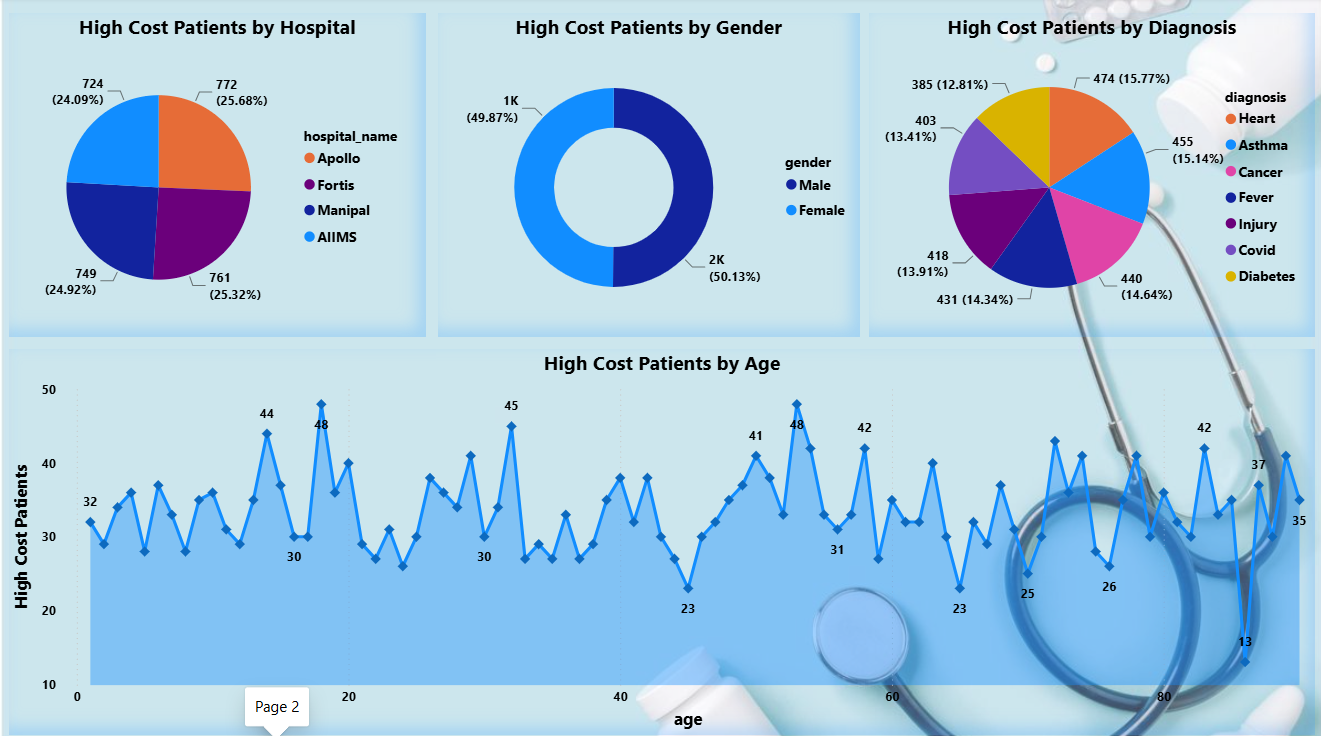

Layout of this report page (visuals, bound fields, positions):
{"tool":"powerbi","page":{"name":"Page 2","canvas":[1280,720],"ordinal":1},"visuals":[{"type":"areaChart","title":"High Cost Patients by Age","fields":{"Category":["healthcare healthcare.age"],"Y":["healthcare healthcare.High Cost Patients"]},"box":[9.8,339.9,1260.7,371.7],"z":0},{"type":"pieChart","title":"High Cost Patients by Hospital","fields":{"Category":["healthcare healthcare.hospital_name"],"Y":["healthcare healthcare.High Cost Patients"]},"box":[9.8,15.9,402.3,311.8],"z":1000},{"type":"donutChart","title":"High Cost Patients by Gender","fields":{"Category":["healthcare healthcare.gender"],"Y":["healthcare healthcare.High Cost Patients"]},"box":[423.1,15.9,407.2,311.8],"z":2000},{"type":"pieChart","title":"High Cost Patients by Diagnosis","fields":{"Category":["healthcare healthcare.diagnosis"],"Y":["healthcare healthcare.High Cost Patients"]},"box":[840.1,15.9,430.4,311.8],"z":3000}]}

Visuals, with their boxes in screenshot pixels (x1, y1, x2, y2), scaled from the page's 1280x720 canvas onto the 1321x736 screenshot:
"High Cost Patients by Age" areaChart: box=[10, 347, 1311, 727]
"High Cost Patients by Hospital" pieChart: box=[10, 16, 425, 335]
"High Cost Patients by Gender" donutChart: box=[437, 16, 857, 335]
"High Cost Patients by Diagnosis" pieChart: box=[867, 16, 1311, 335]
